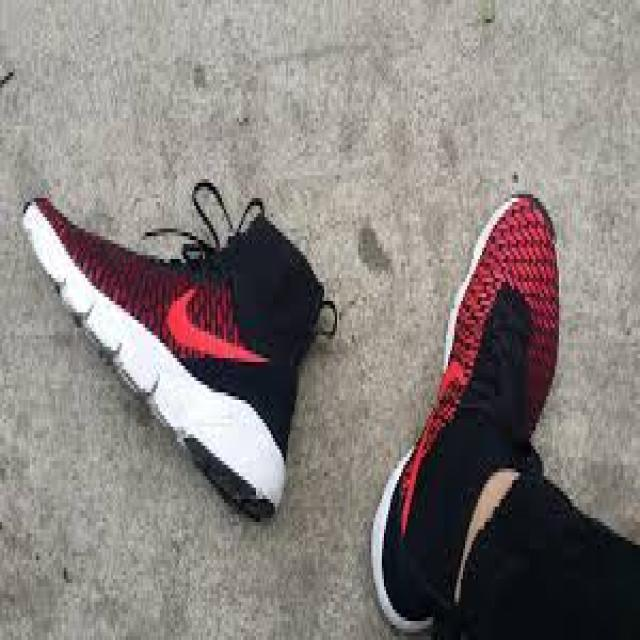shoe: (28, 105, 336, 538), (364, 148, 561, 640)
